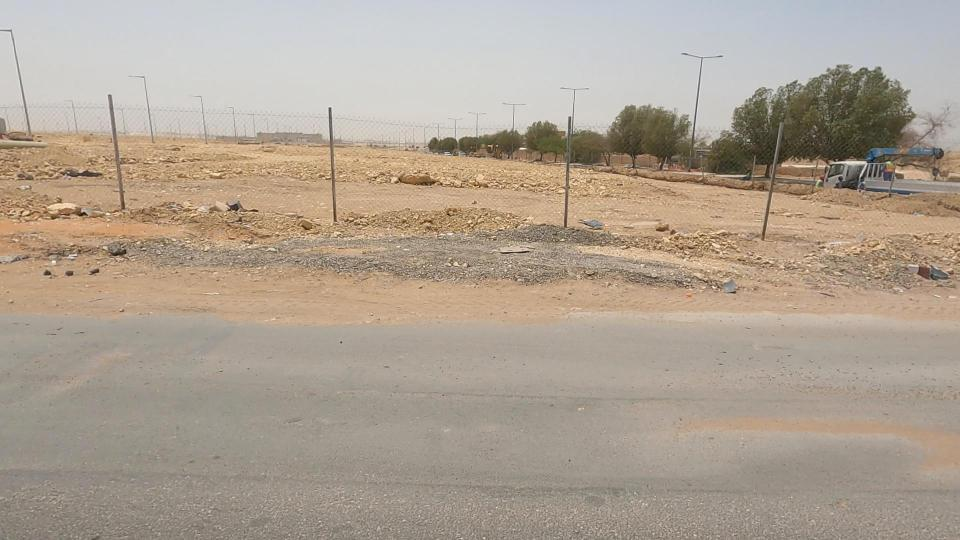GARBAGE: (678, 255, 772, 324), (557, 194, 636, 261), (862, 243, 960, 294), (198, 181, 276, 230), (26, 232, 94, 284), (79, 228, 150, 277)
